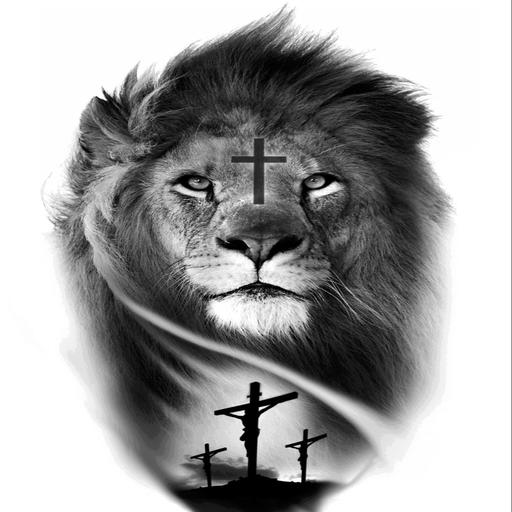Lion: (41, 0, 440, 512)
